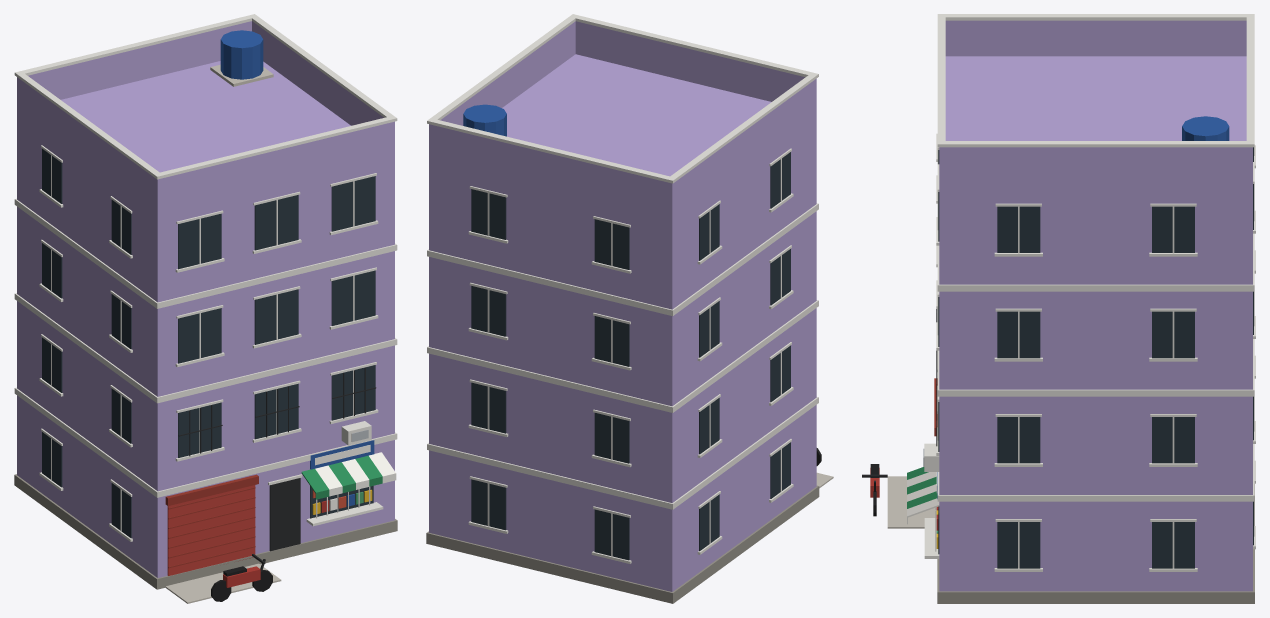
File: BAY_F_Tower_I.glb
3 views of the same model, side by side, from view 1: azimuth 30°, elevation 25°; view 2: azimuth 150°, elevation 25°; view 3: azimuth 270°, elevation 25° (orthographic). The views are drawn at different scales.
Visible parts, largest first — view 1: BAY_F_Tower_I; view 2: BAY_F_Tower_I; view 3: BAY_F_Tower_I.
Boxes of the visible parts, bbox=[...] form: BAY_F_Tower_I: bbox=[14, 14, 397, 603]; BAY_F_Tower_I: bbox=[426, 14, 833, 603]; BAY_F_Tower_I: bbox=[862, 14, 1255, 603].
Size of the model in its own units: 7.24 by 11.8 by 9.17.
Materials: 1 (1 with a texture image).
